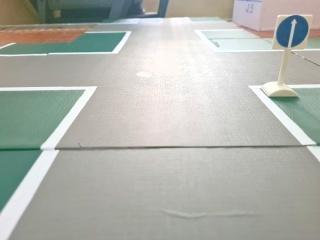straight: (273, 15, 312, 50)
